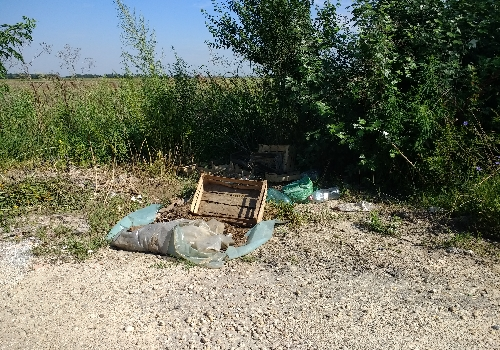trash: (79, 141, 360, 266)
